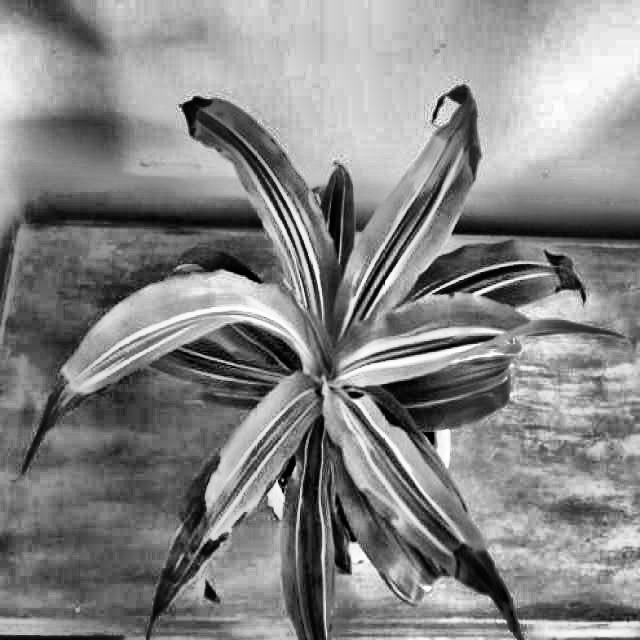plants: (16, 80, 624, 638)
